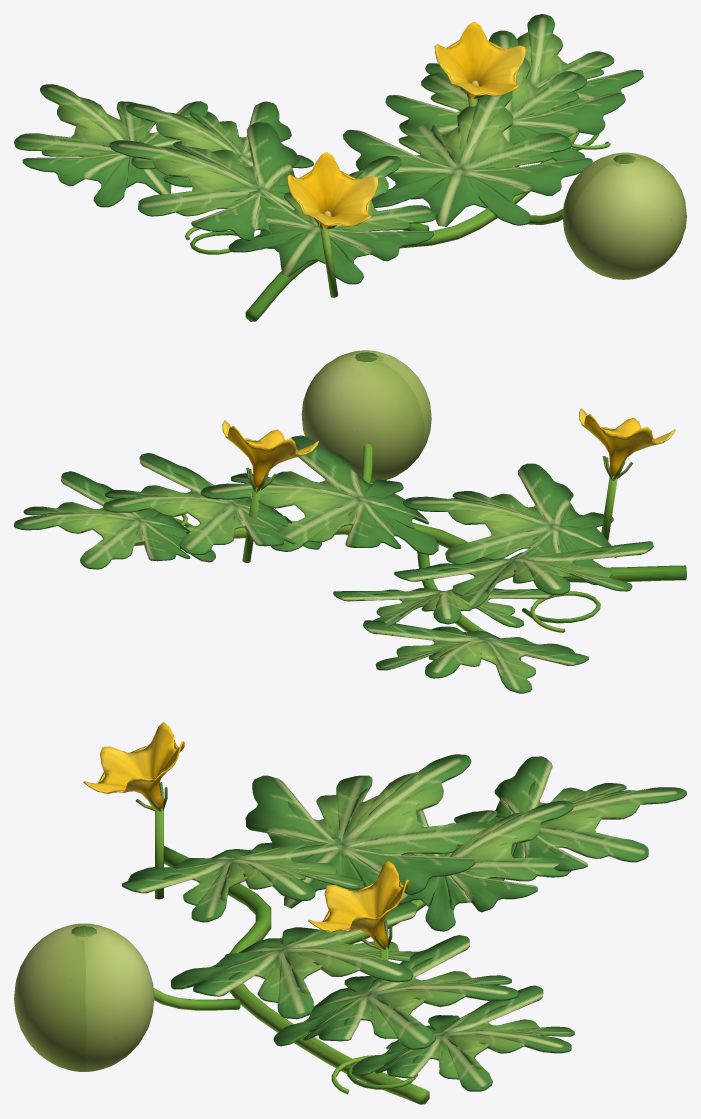
Rendered from NP_Watermelon_Flowering.fbx.
3 renders of one model, top to bottom at view 1: azimuth 30°, elevation 25°; view 2: azimuth 150°, elevation 25°; view 3: azimuth 270°, elevation 25°, orthographic. The views are drawn at different scales.
Parts seen in each view (by area): view 1: NP_Watermelon_Flowering; view 2: NP_Watermelon_Flowering; view 3: NP_Watermelon_Flowering.
Part boxes in pixels (x1,y1,x2,y2): NP_Watermelon_Flowering: (14, 14, 686, 321); NP_Watermelon_Flowering: (14, 350, 686, 693); NP_Watermelon_Flowering: (14, 722, 686, 1104).
Size of the model in its own units: 80.58 by 21.14 by 71.87.
